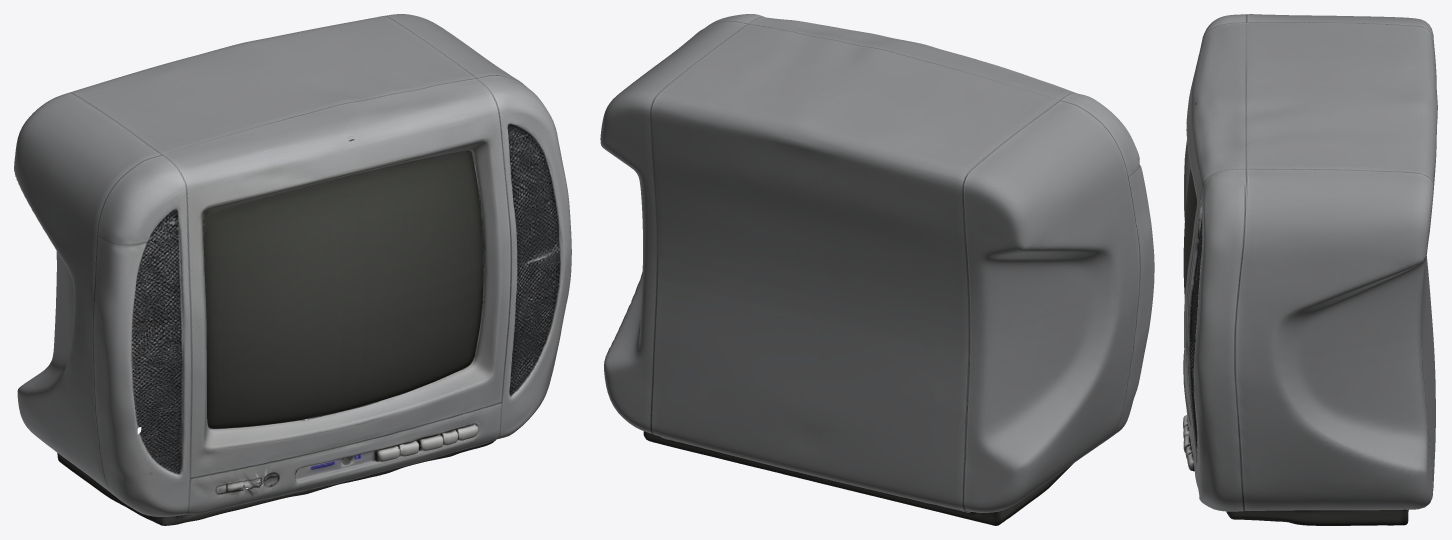
File: menu_tv_extras.glb
3 views of the same model, side by side, from view 1: azimuth 30°, elevation 25°; view 2: azimuth 150°, elevation 25°; view 3: azimuth 270°, elevation 25° (orthographic). The views are drawn at different scales.
Parts seen in each view (by area): view 1: tripo_node_faa8e139; view 2: tripo_node_faa8e139; view 3: tripo_node_faa8e139.
Part boxes in pixels (x1=…): tripo_node_faa8e139: x1=14, y1=14, x2=571, y2=525; tripo_node_faa8e139: x1=600, y1=14, x2=1154, y2=525; tripo_node_faa8e139: x1=1183, y1=14, x2=1437, y2=525.
Bounding box in the file's own units: 97.95 × 74.66 × 48.48.
Materials: 1 (1 with a texture image).
